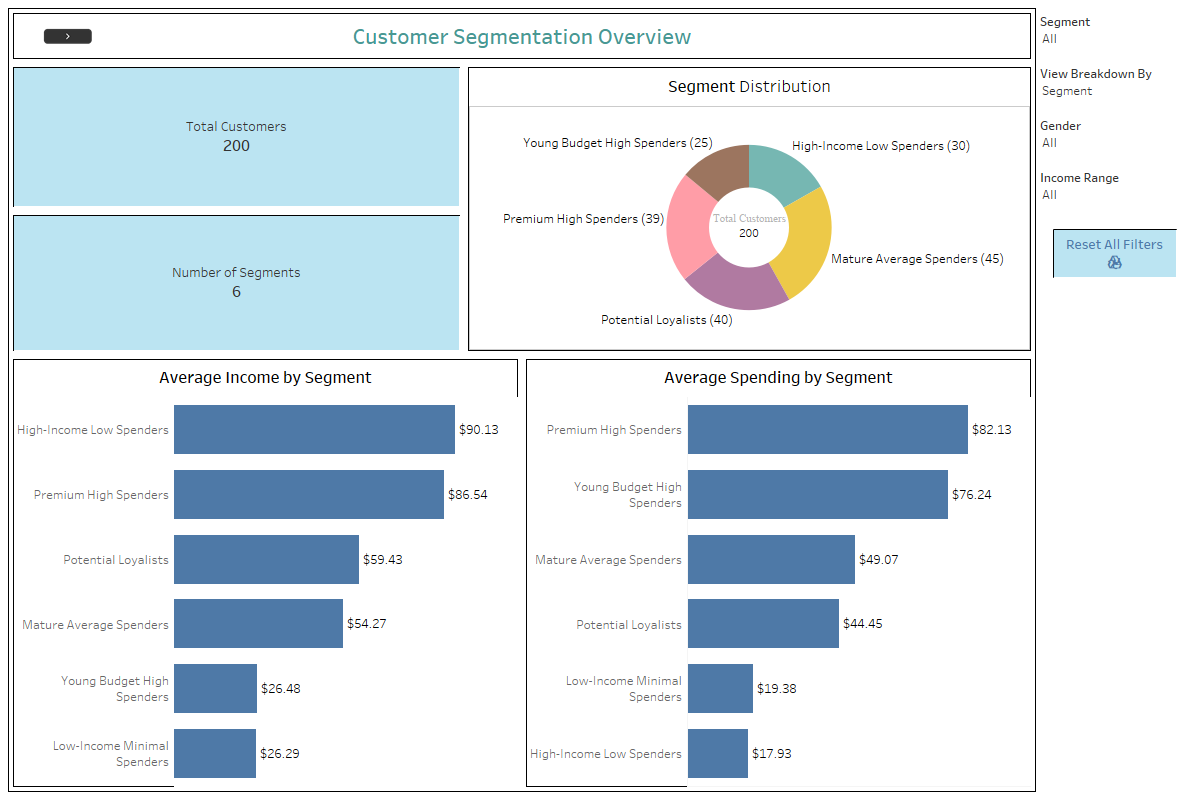

The dashboard page shown, as its layout file describes it:
{"tool":"tableau","page":{"name":"Customer Segmentation","canvas":[1200,800],"ordinal":1},"visuals":[{"type":"filter","title":"Avg Spend","param":"[federated.1wh77w81mrjw7s15hlmr905pv0ge].[none:Segment:nk]","box":[1036,8,156,52]},{"type":"title","box":[9,9,1026,54]},{"type":"dashboard-object","box":[43,18,49,37]},{"type":"parameter","param":"[Parameters].[Parameter 1]","box":[1036,60,156,52]},{"type":"worksheet","title":"Total Customer","mark":"Automatic","box":[9,63,455,148]},{"type":"worksheet","title":"Segment Distribution","mark":"Pie","rows":["Calculation_1352487279618977805","Calculation_1352487279618994191"],"box":[464,63,571,292]},{"type":"filter","title":"Avg Income","param":"[federated.1wh77w81mrjw7s15hlmr905pv0ge].[none:Gender:nk]","box":[1036,112,156,52]},{"type":"filter","title":"Avg Income","param":"[federated.1wh77w81mrjw7s15hlmr905pv0ge].[none:Calculation_907756817539915779:nk","box":[1036,164,156,52]},{"type":"worksheet","title":"No. of Segments","mark":"Automatic","box":[9,211,455,144]},{"type":"worksheet","title":"Reset Button","mark":"Automatic","box":[1053,229,124,49]},{"type":"worksheet","title":"Avg Income","mark":"Automatic","rows":["Segment"],"cols":["Annual Income (k$)"],"box":[9,355,513,436]},{"type":"worksheet","title":"Avg Spend","mark":"Automatic","rows":["Segment"],"cols":["Spending Score (1-100)"],"box":[522,355,513,436]}]}

Visuals, with their boxes in screenshot pixels (x1, y1, x2, y2), scaled from the page's 1200x800 canvas onto the 1200x800 screenshot:
"Avg Spend" filter: region(1036, 8, 1192, 60)
title: region(9, 9, 1035, 63)
dashboard-object: region(43, 18, 92, 55)
parameter: region(1036, 60, 1192, 112)
"Total Customer" worksheet: region(9, 63, 464, 211)
"Segment Distribution" worksheet (Pie marks): region(464, 63, 1035, 355)
"Avg Income" filter: region(1036, 112, 1192, 164)
"Avg Income" filter: region(1036, 164, 1192, 216)
"No. of Segments" worksheet: region(9, 211, 464, 355)
"Reset Button" worksheet: region(1053, 229, 1177, 278)
"Avg Income" worksheet: region(9, 355, 522, 791)
"Avg Spend" worksheet: region(522, 355, 1035, 791)
